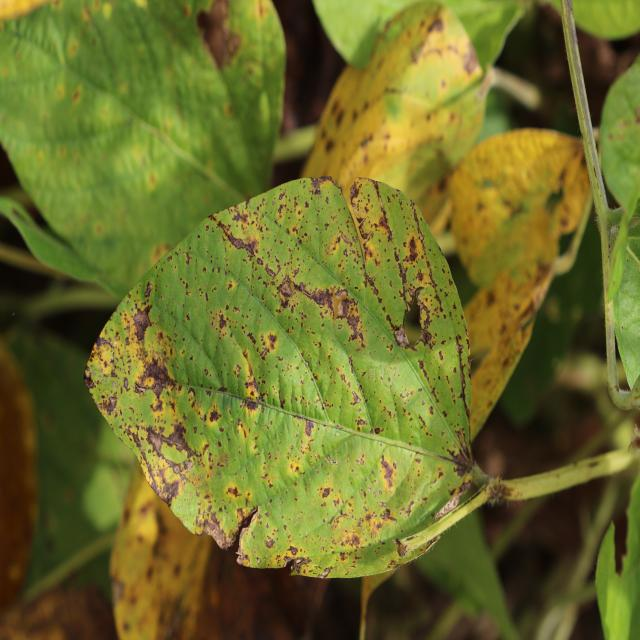Bacterial_Blight: (127, 344, 181, 409), (214, 219, 261, 261), (145, 424, 189, 463), (369, 186, 395, 245), (199, 511, 236, 549), (611, 504, 630, 576), (303, 283, 340, 319), (607, 111, 640, 146), (241, 359, 262, 399), (415, 298, 435, 340), (379, 454, 397, 491), (132, 308, 152, 341), (93, 335, 118, 361), (454, 427, 472, 458), (98, 392, 118, 415), (276, 280, 294, 305), (425, 16, 445, 38), (226, 32, 242, 58), (406, 235, 421, 262), (393, 326, 410, 349), (342, 531, 361, 548), (83, 364, 95, 389), (143, 281, 155, 300), (304, 418, 315, 438), (226, 485, 241, 499), (396, 540, 408, 557), (350, 390, 362, 406), (356, 417, 368, 431), (71, 88, 81, 104), (209, 409, 220, 423), (218, 314, 227, 331), (268, 333, 277, 349), (264, 537, 275, 548), (321, 487, 331, 498), (123, 377, 130, 392), (374, 427, 381, 435)
Soybean: (85, 178, 498, 578)
